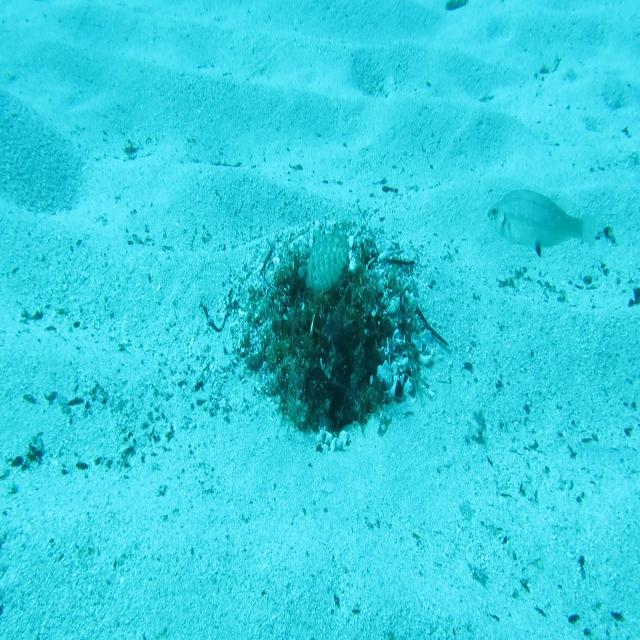NIP_CORE: (304, 219, 352, 302)
core_nest: (301, 272, 347, 305)
female: (485, 187, 600, 261)
nest: (220, 209, 440, 455)
vegetation: (444, 0, 472, 12)
